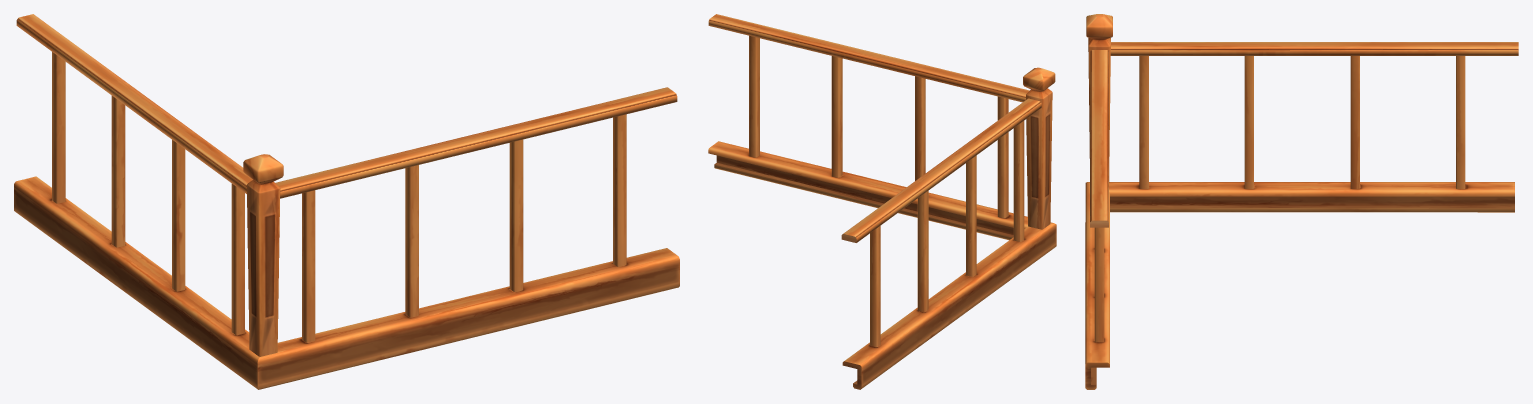
File: PropStairs01PTypeB1.FBX
3 renders of one model, left to right at view 1: azimuth 30°, elevation 25°; view 2: azimuth 150°, elevation 25°; view 3: azimuth 270°, elevation 25°, orthographic. The views are drawn at different scales.
Parts seen in each view (by area): view 1: PropStairs01PTypeB1; view 2: PropStairs01PTypeB1; view 3: PropStairs01PTypeB1.
Part boxes in pixels (left/top/right/bottom): PropStairs01PTypeB1: left=14, top=14, right=679, bottom=389; PropStairs01PTypeB1: left=708, top=14, right=1056, bottom=389; PropStairs01PTypeB1: left=1085, top=14, right=1518, bottom=389.
Size of what is drawn, in the model's own units: 2.28 by 1.16 by 2.3.
